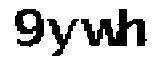3: (8, 3, 44, 53)
h: (123, 6, 152, 54)
w: (79, 15, 121, 51)
y: (48, 13, 81, 59)
